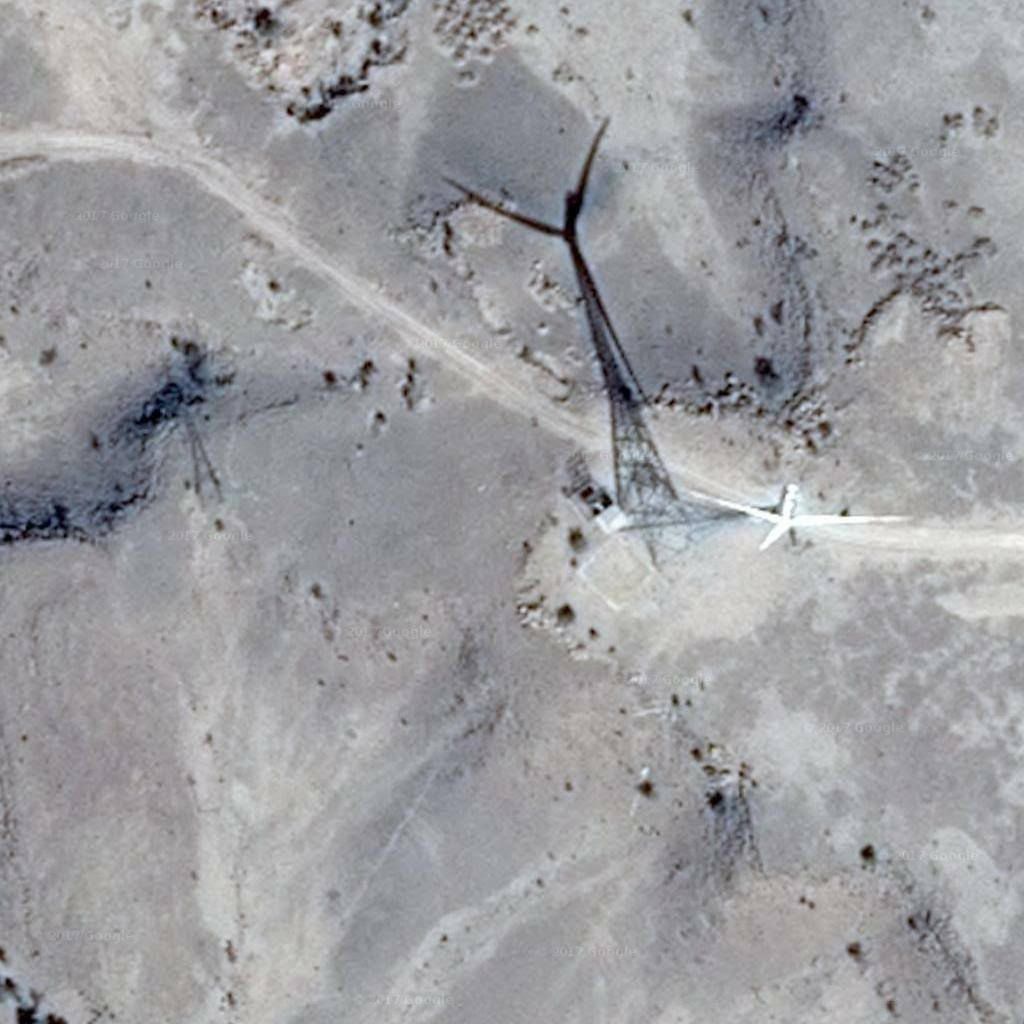Windmill: (436, 121, 702, 497)
